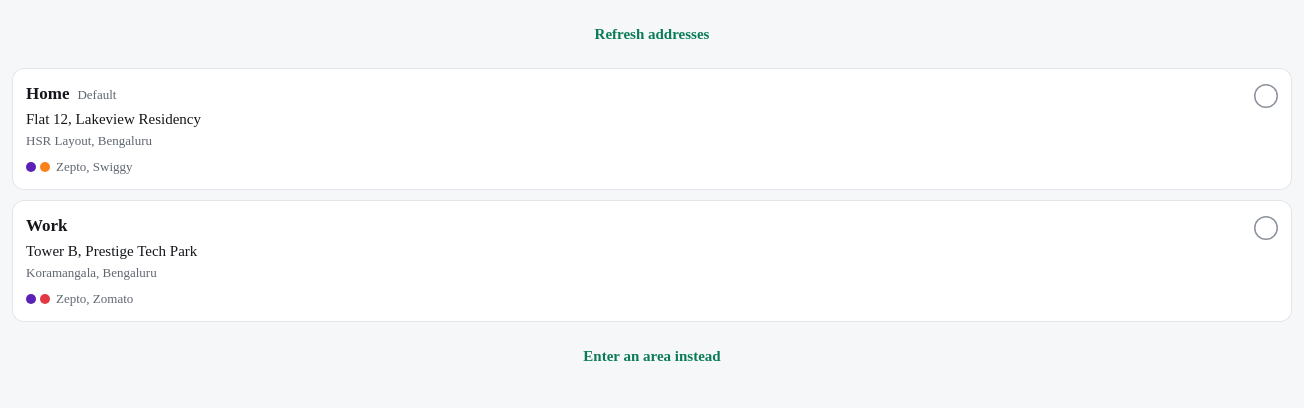
Scenario: AddressPicker refresh and lines › has Refresh addresses on top that POSTs /addresses/refresh
Click the button "Refresh addresses": click(652, 34) [12,12,1292,56]
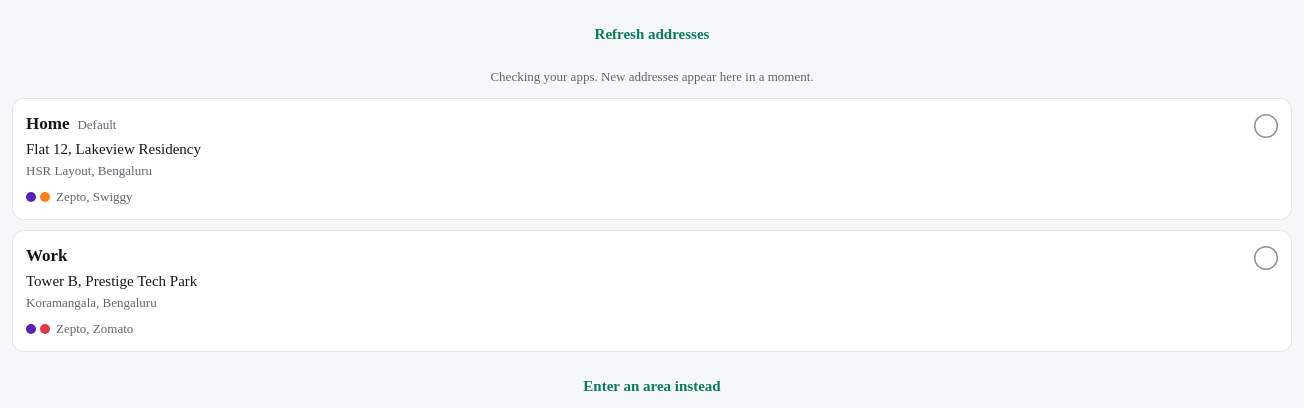
expect the message "Checking your apps. New addresses appear here in a moment." is shown: met, box [490,69,814,84]
